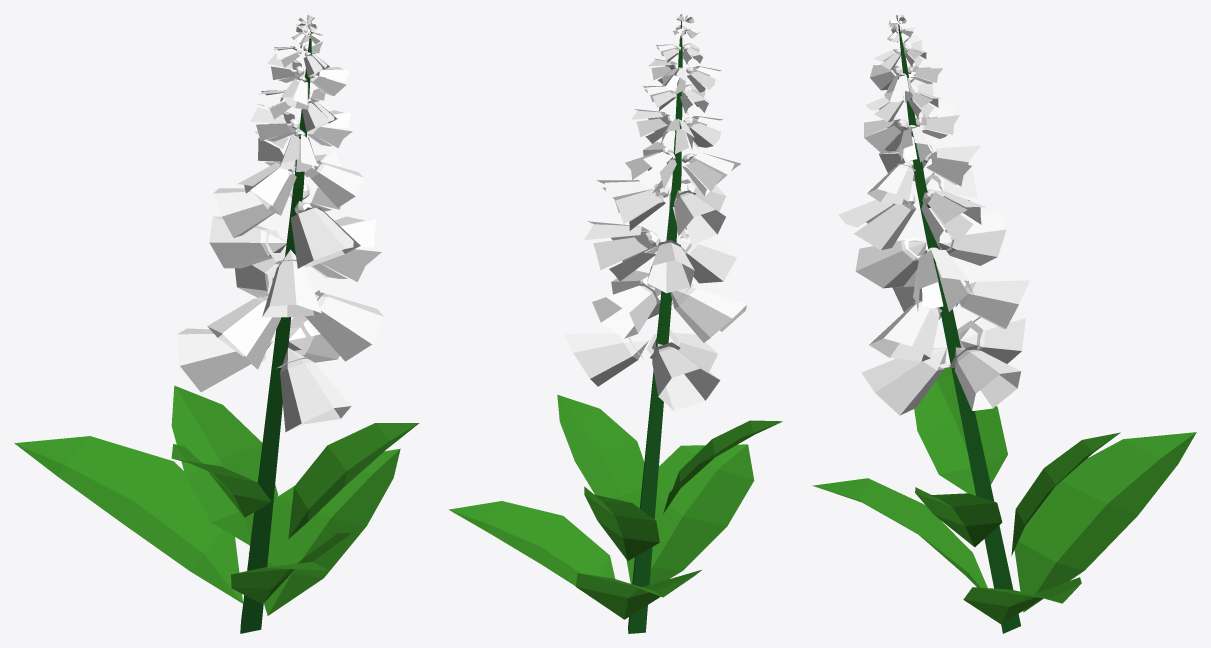
Rendered from fleur 7.fbx.
3 views of the same model, side by side, from view 1: azimuth 30°, elevation 25°; view 2: azimuth 150°, elevation 25°; view 3: azimuth 270°, elevation 25° (orthographic). The views are drawn at different scales.
Visible parts, largest first — view 1: Flower.001; view 2: Flower.001; view 3: Flower.001.
Boxes of the visible parts, bbox=[...] form: Flower.001: bbox=[14, 15, 419, 633]; Flower.001: bbox=[449, 14, 782, 633]; Flower.001: bbox=[812, 14, 1196, 633].
Size of the model in its own units: 0.2245 by 0.4472 by 0.254.
